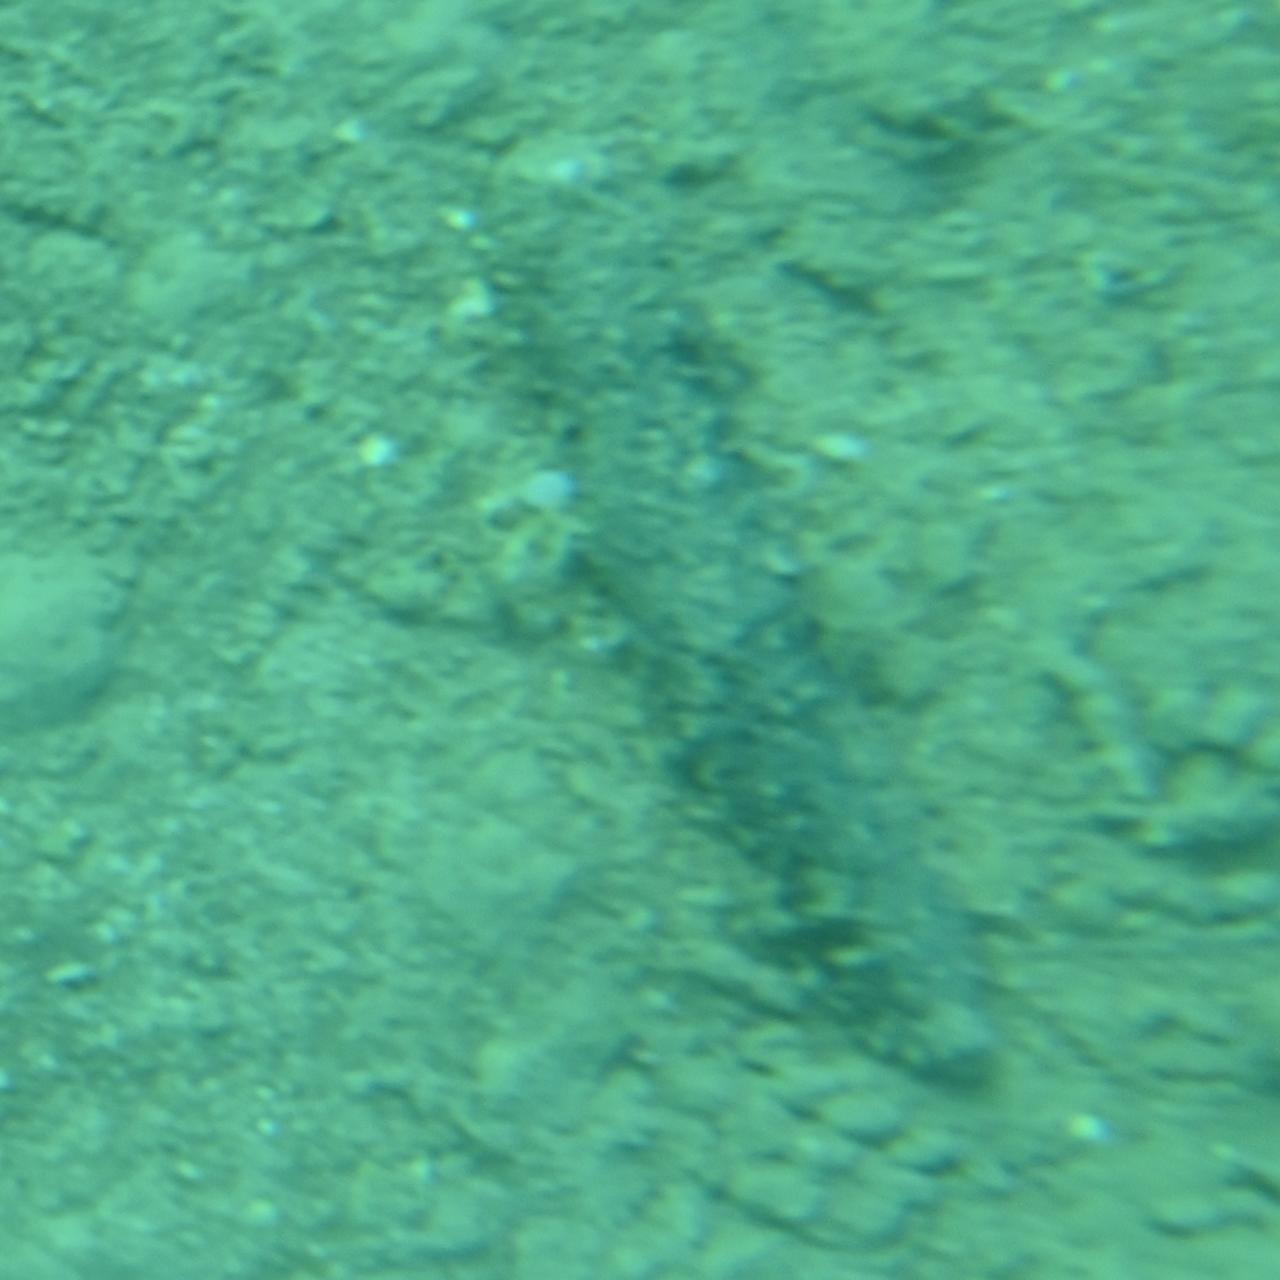Holothuria tubulosa: (467, 166, 1034, 1114)
